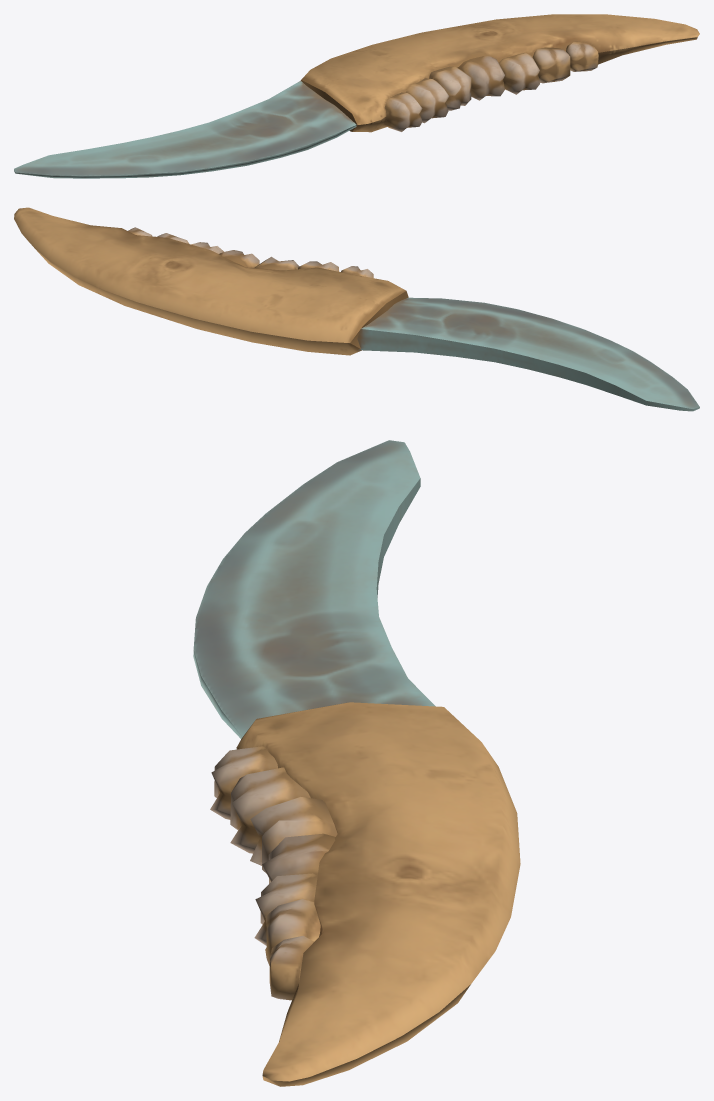
The model's file is SM_Potion_Props_Dagger_01.fbx.
The picture shows the model from 3 angles, top to bottom: view 1: azimuth 30°, elevation 25°; view 2: azimuth 150°, elevation 25°; view 3: azimuth 270°, elevation 25°; orthographic projection. The views are drawn at different scales.
Visible parts, largest first — view 1: SM_Potion_Props_Dagger_01_LOD0; view 2: SM_Potion_Props_Dagger_01_LOD0; view 3: SM_Potion_Props_Dagger_01_LOD0.
Part boxes in pixels (x1,y1,x2,y2): SM_Potion_Props_Dagger_01_LOD0: (14,14,699,178); SM_Potion_Props_Dagger_01_LOD0: (14,207,699,411); SM_Potion_Props_Dagger_01_LOD0: (193,440,520,1086).
Size of what is drawn, in the model's own units: 27.47 by 1.62 by 5.93.
